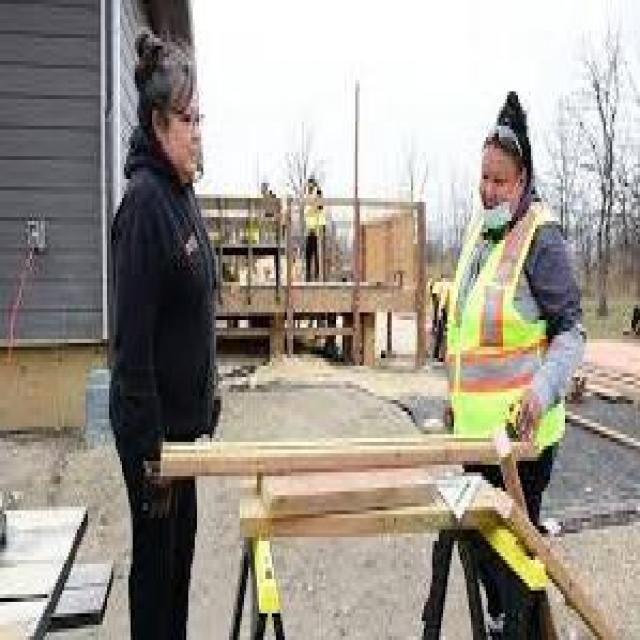Reflective-Jacket: (437, 202, 584, 480)
